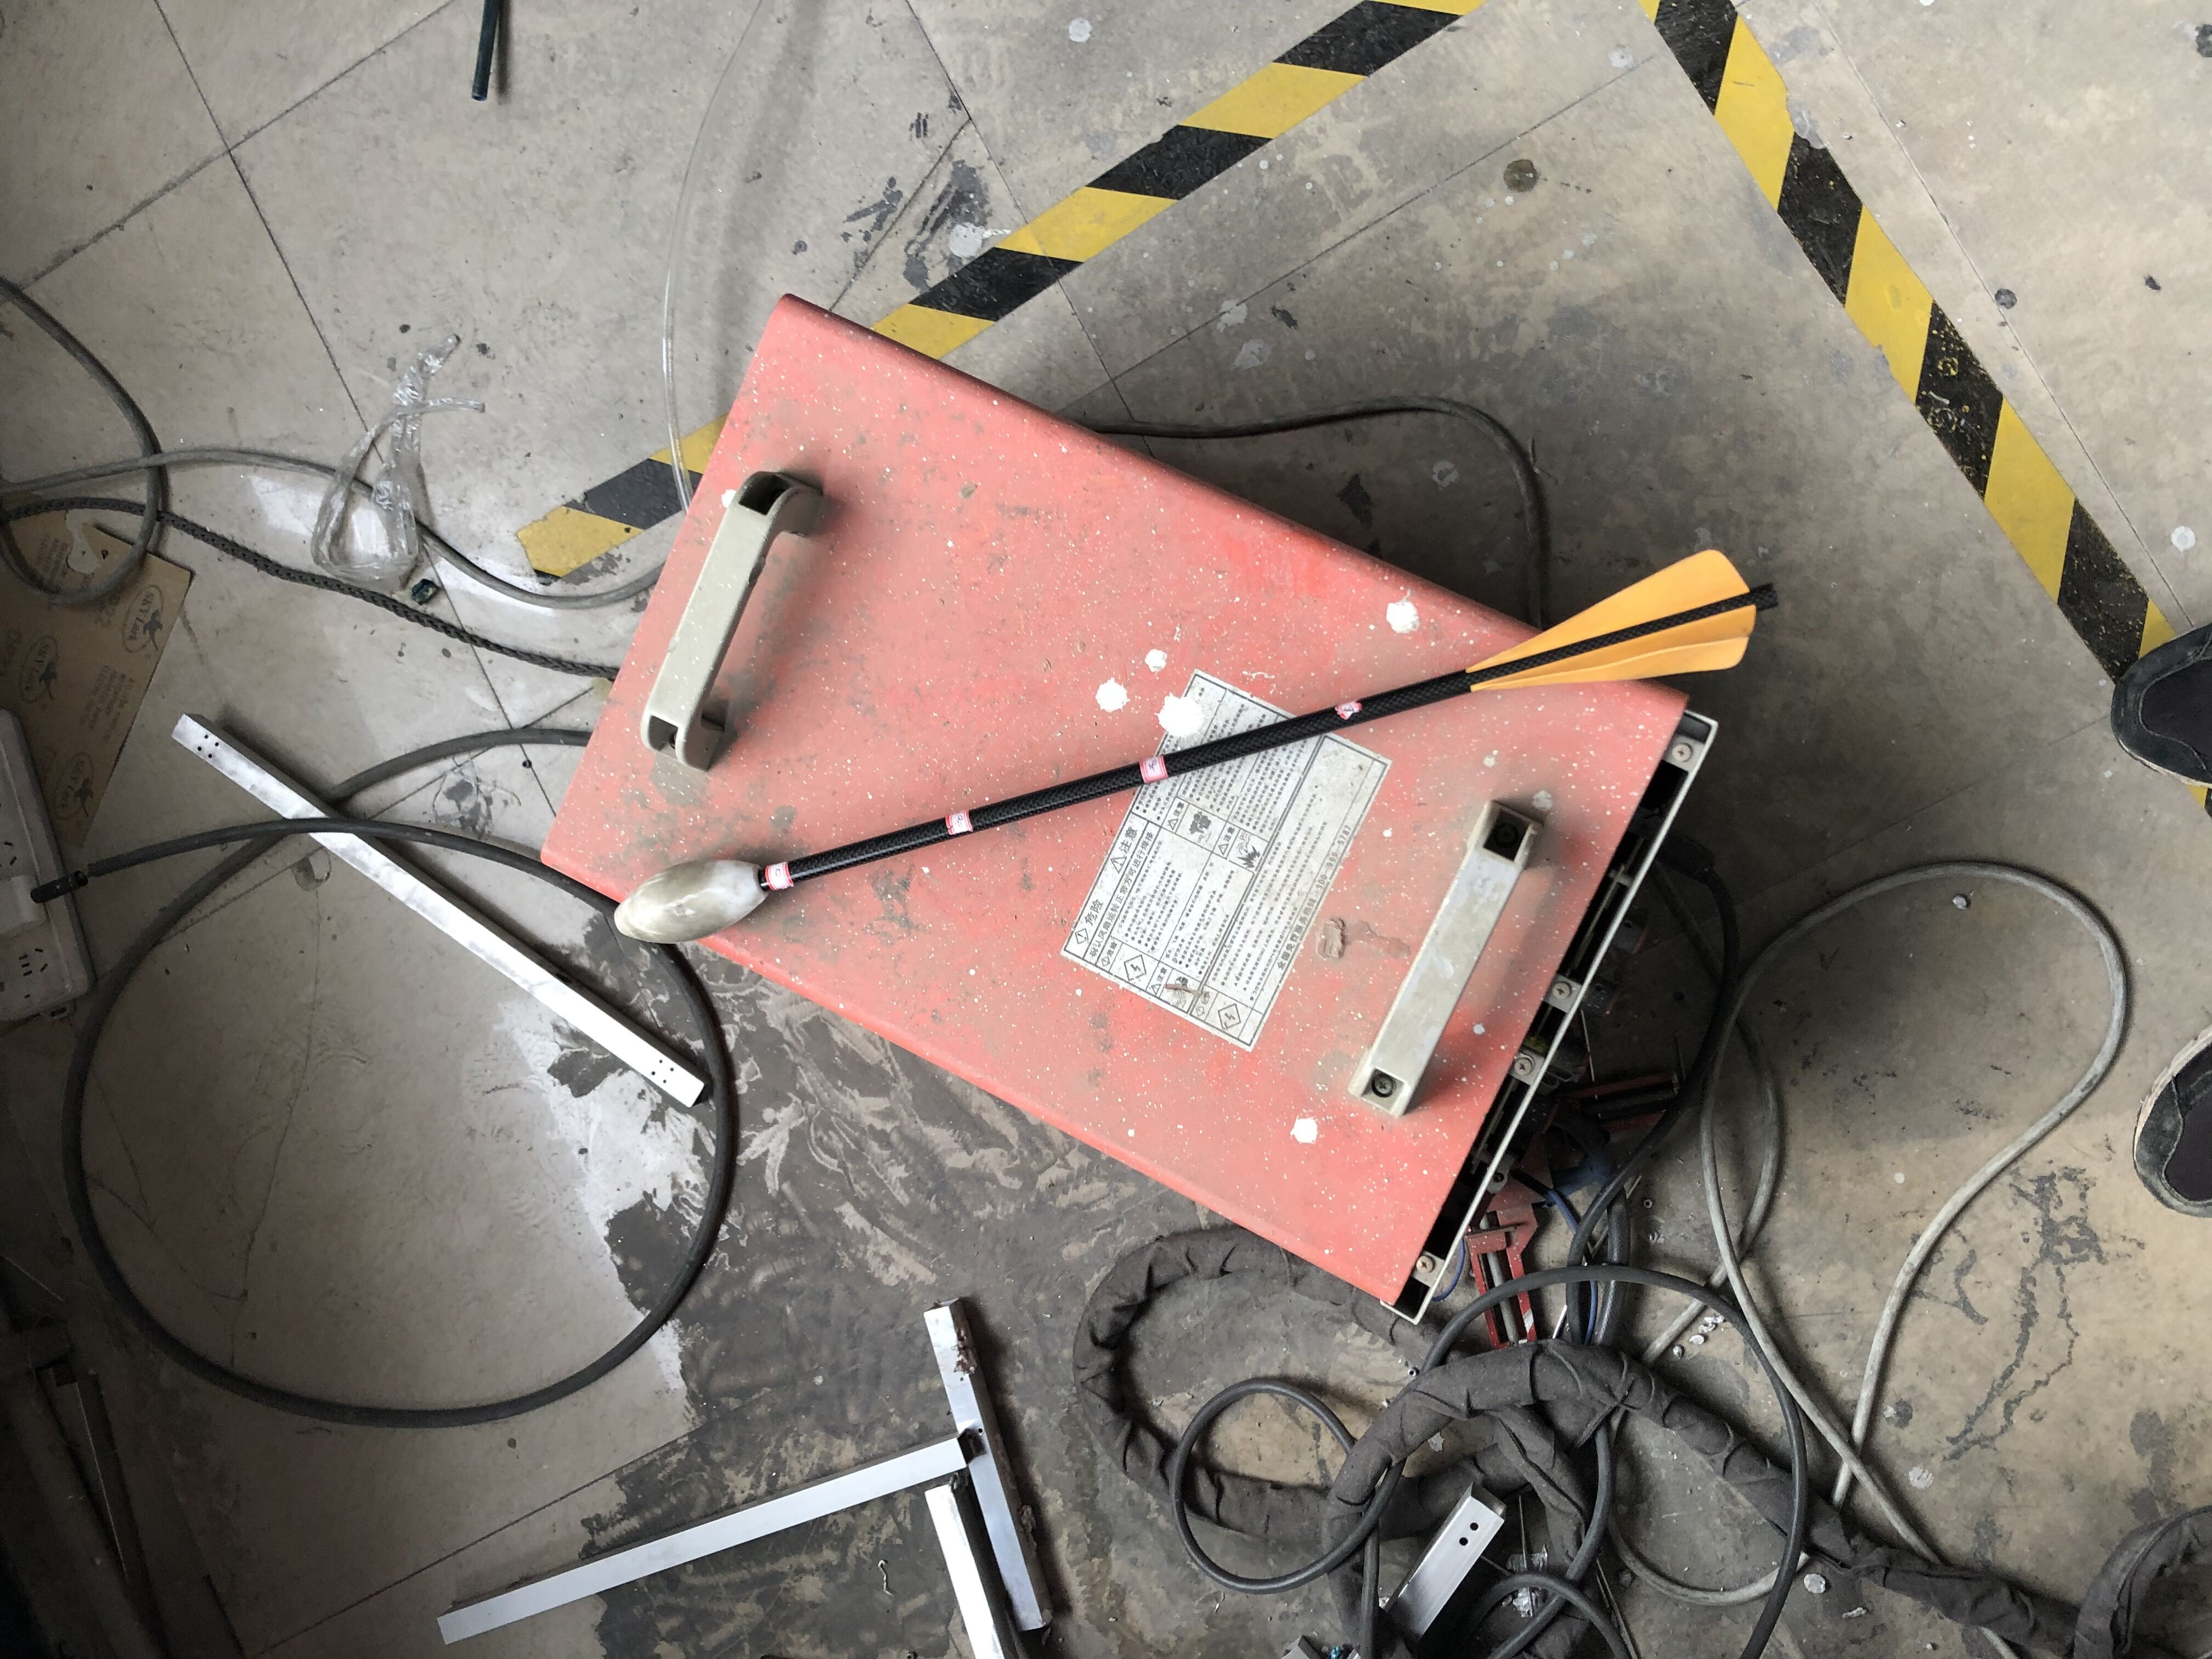arrow: (610, 545, 1780, 948)
arrowFront: (608, 852, 770, 950)
